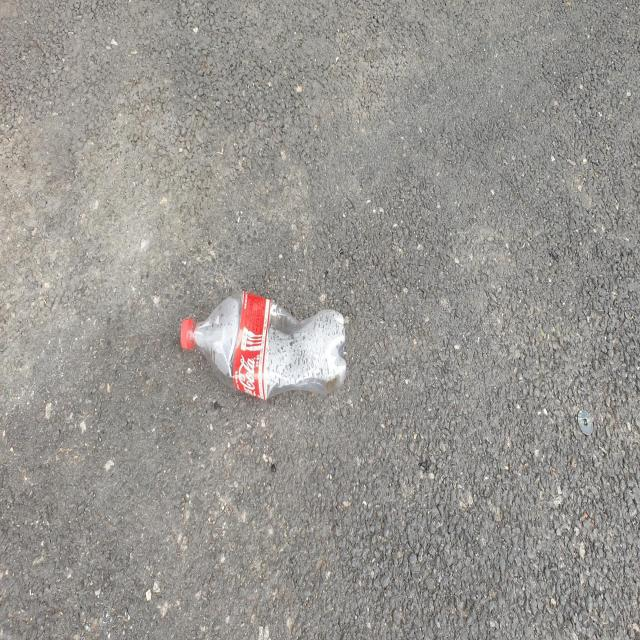plastic: (180, 292, 347, 399)
